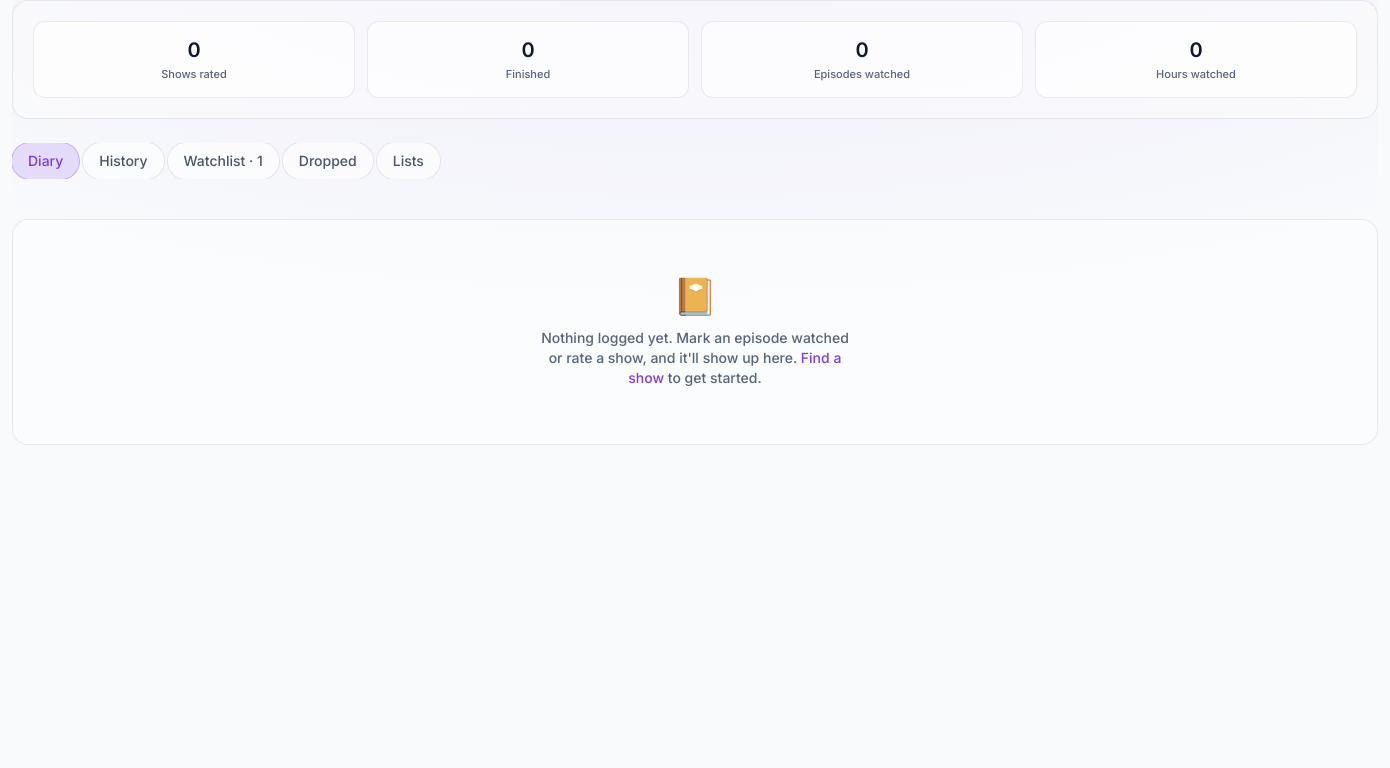
Test: ProfileActivity › removes a watchlist item optimistically and offers undo
What coordinates should you click on to do the following:
click the button "Watchlist · 1"
I would click on:
 (223, 160)
Its box is [168,142,279,178].
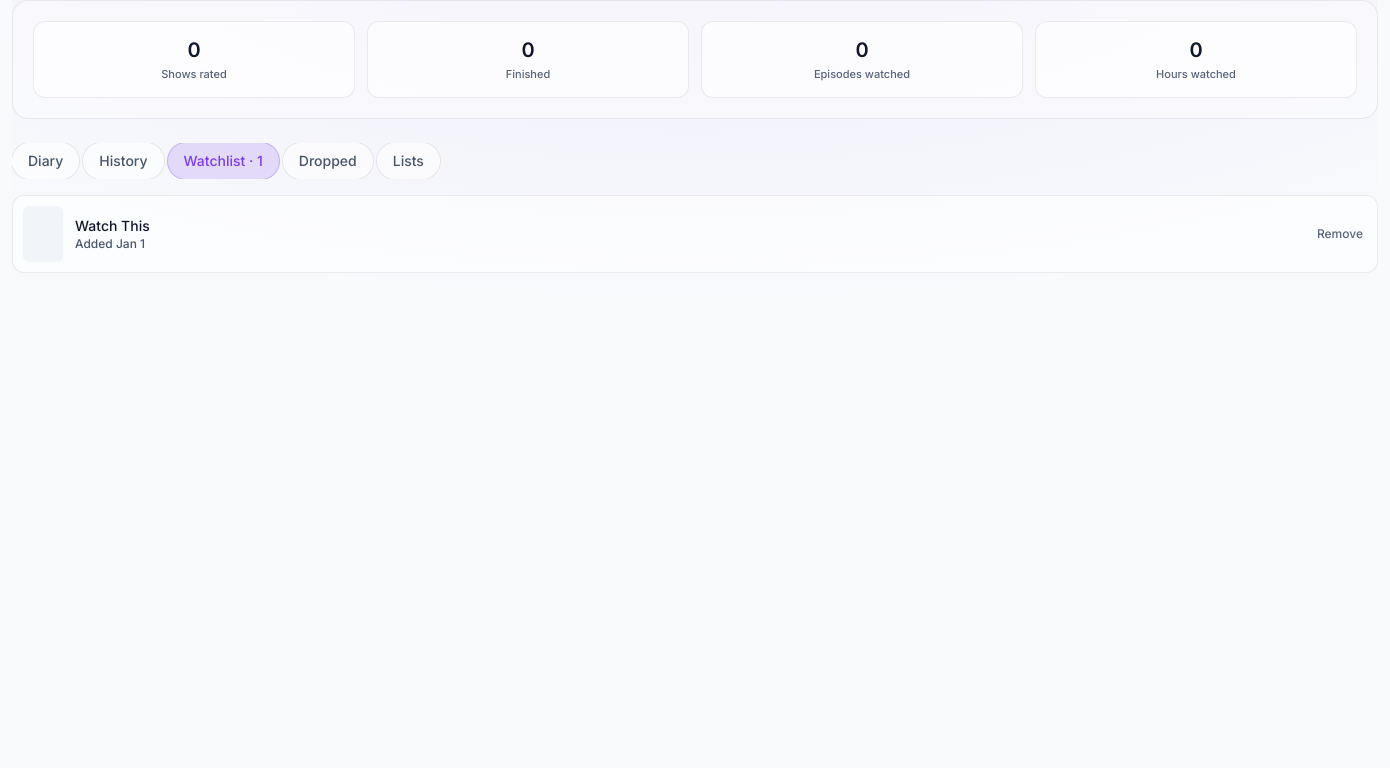
What coordinates should you click on to do the following:
click the button "Remove"
I would click on:
 (1340, 234)
Its box is [1305,212,1375,256].
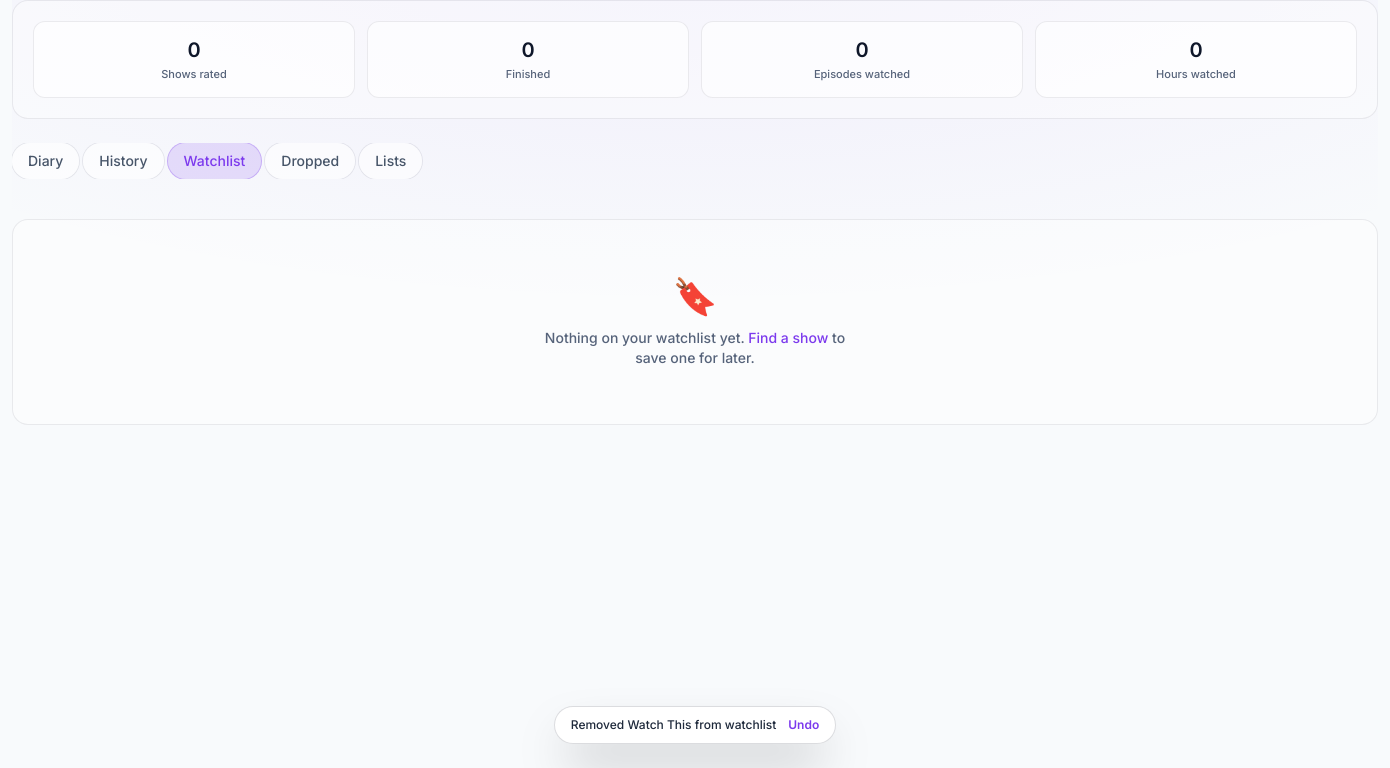
Expected: the button "Watchlist" is shown, [168,142,261,178]
Result: the text "Removed Watch This from watchlist" is shown at [571,717,776,733]
